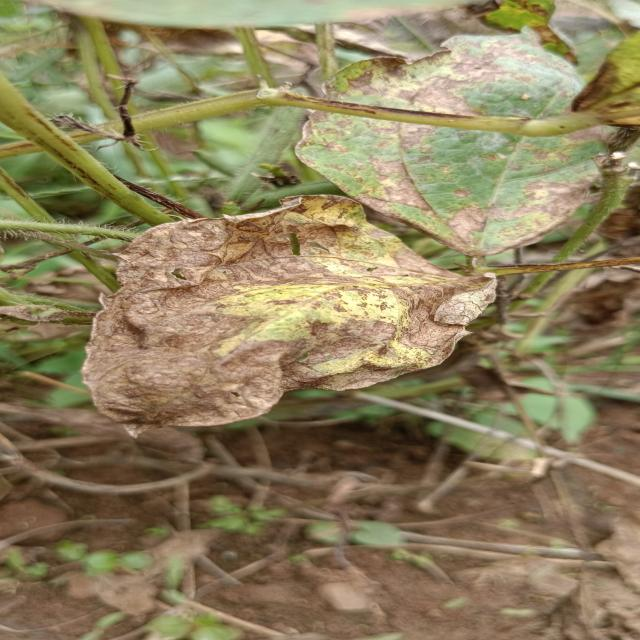Black gram_leaf spot: (78, 193, 506, 440), (290, 28, 624, 264)
